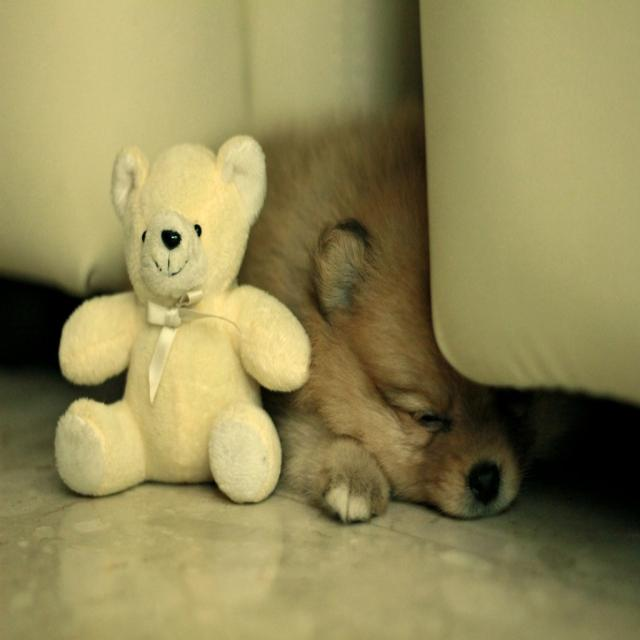Dog: (215, 93, 546, 526)
